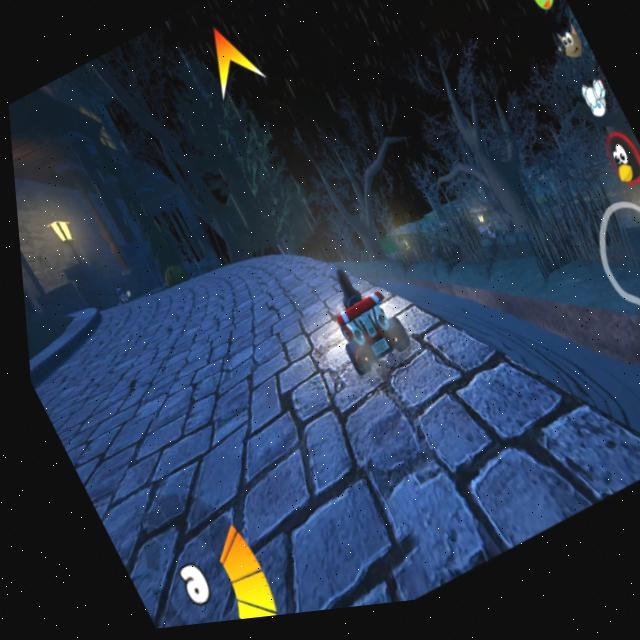off_track: (231, 59, 505, 250), (402, 158, 570, 296)
player_kart: (296, 240, 422, 403)
track: (18, 251, 303, 508)
